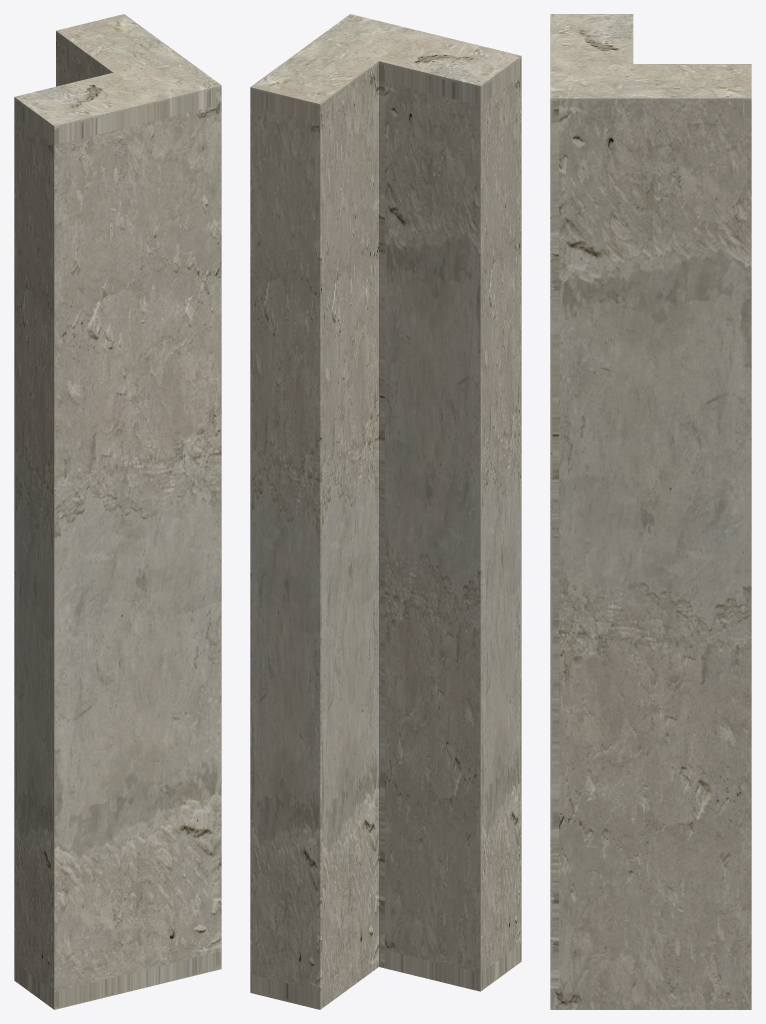
File: pared_esquina_1.fbx
The picture shows the model from 3 angles, left to right: view 1: azimuth 30°, elevation 25°; view 2: azimuth 150°, elevation 25°; view 3: azimuth 270°, elevation 25°; orthographic projection. The views are drawn at different scales.
Parts seen in each view (by area): view 1: pared_esquina_1; view 2: pared_esquina_1; view 3: pared_esquina_1.
Boxes of the visible parts, bbox=[...] form: pared_esquina_1: bbox=[14, 14, 221, 1009]; pared_esquina_1: bbox=[250, 14, 521, 1009]; pared_esquina_1: bbox=[550, 14, 751, 1009].
Size of the model in its own units: 97.98 by 494 by 98.88.
